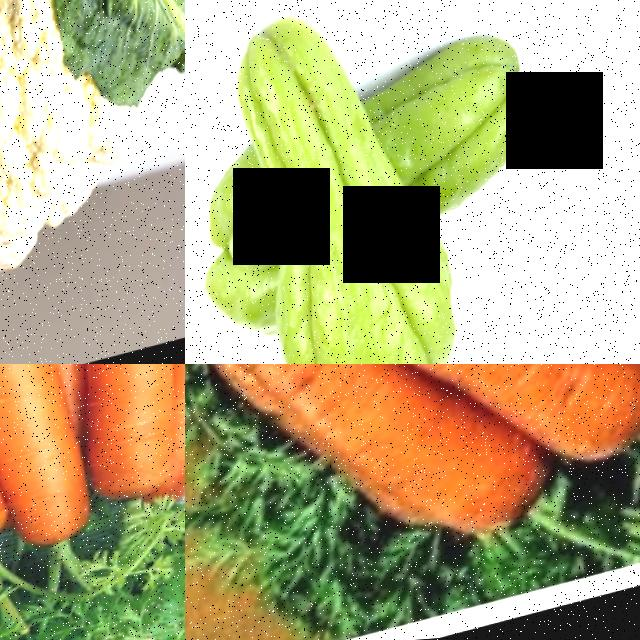carrot: (206, 364, 460, 595), (453, 364, 640, 510), (33, 364, 185, 528), (0, 364, 115, 574)
cauliflower: (0, 0, 185, 364)
chayote: (393, 38, 582, 245), (277, 276, 501, 364)
